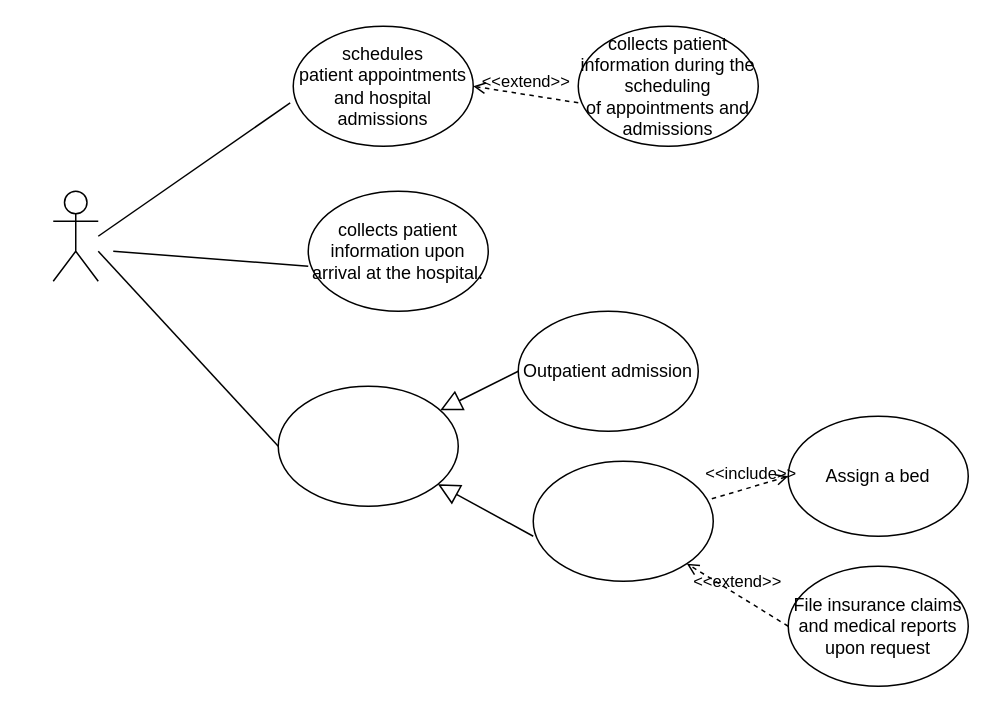
Image size: 995x713. Some labels were removed from this diagram. Each missing label, with the centre of its shape:
"Complete registration before admission" belongs at pixel 367 445.
"Inpatient admission" belongs at pixel 622 520.
"Receptionist" belongs at pixel 75 235.
